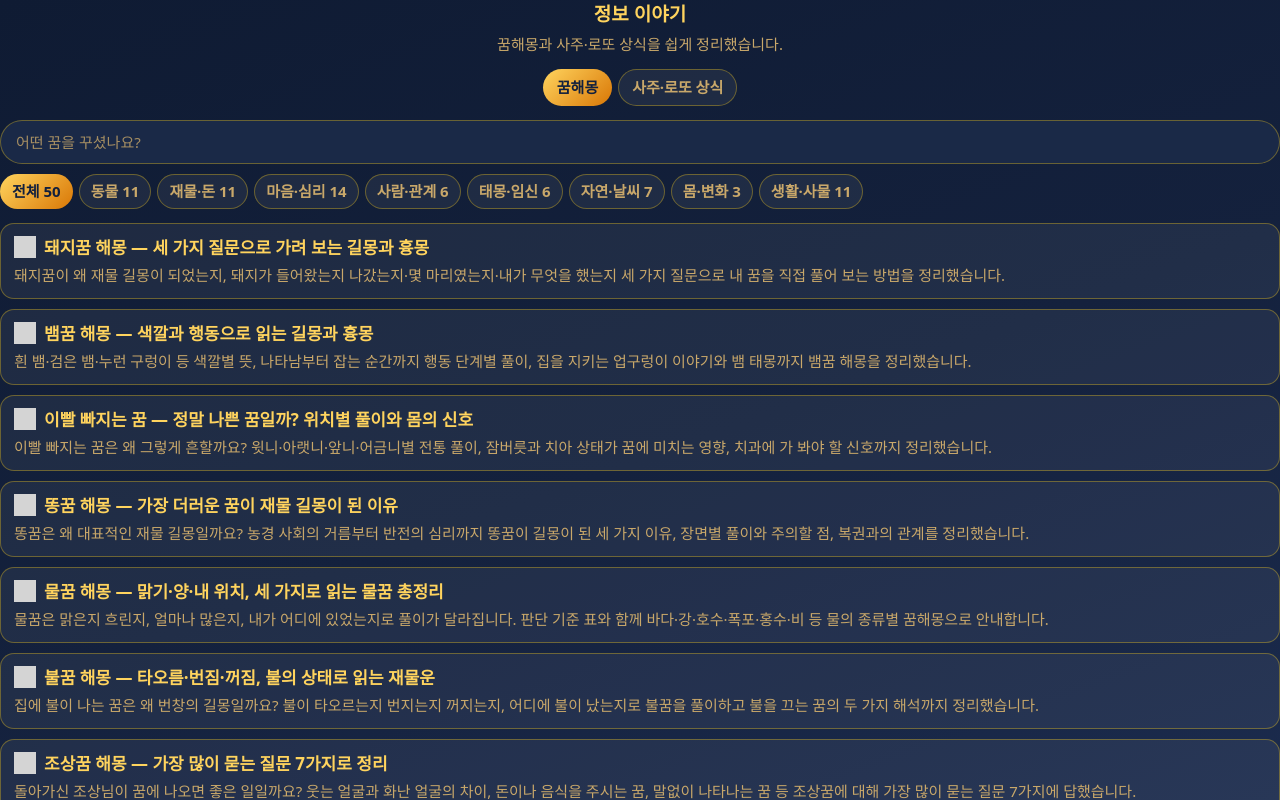
Test case: 맞는 글이 없으면 안내 문구를 보여준다
Type "zzzz없는말" into the search field named "글 검색" at (640, 142), box top-left (0, 120), bottom-right (1279, 164)
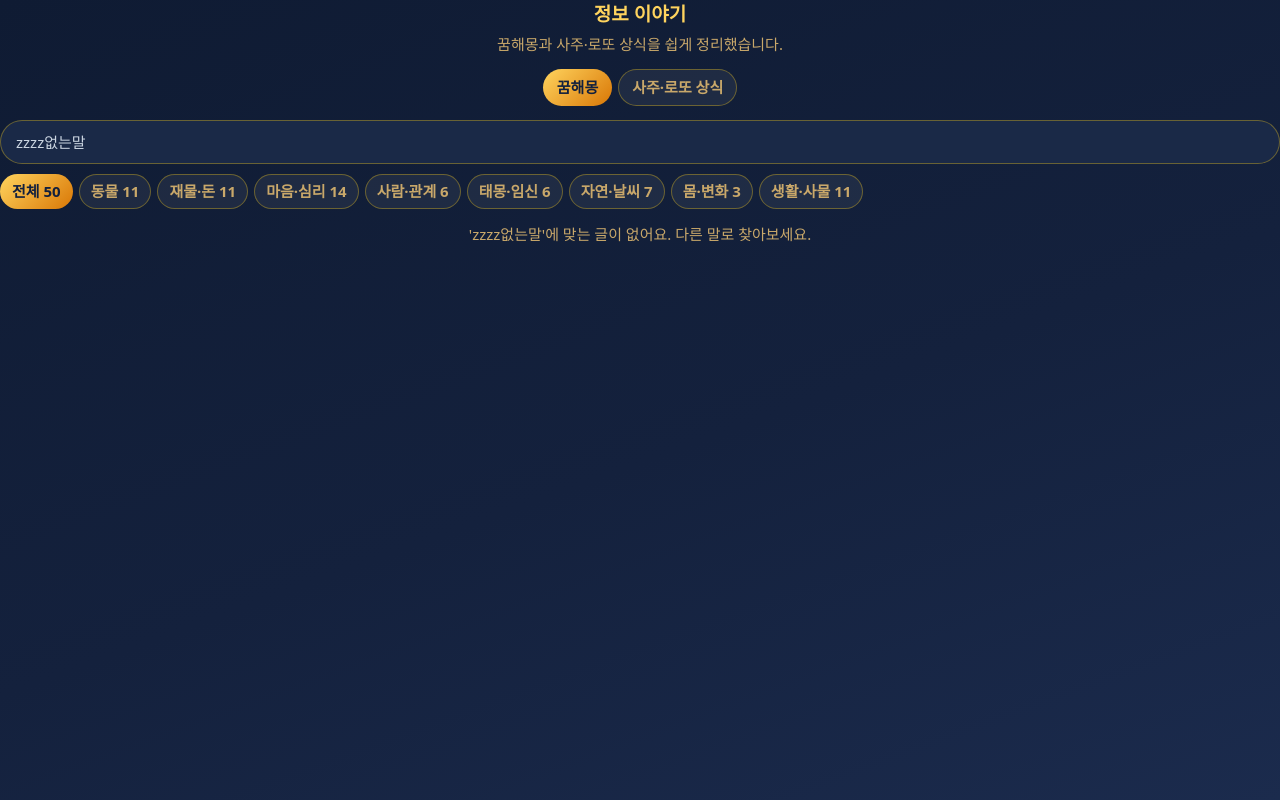
Now no list items are shown
Now the text "'zzzz없는말'에 맞는 글이 없어요. 다른 말로 찾아보세요." is shown, box top-left (469, 224), bottom-right (811, 244)
